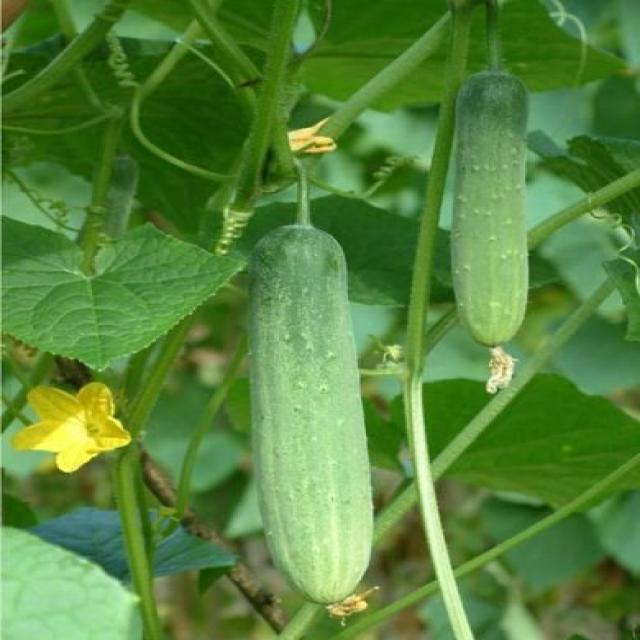cucumber: (245, 223, 371, 600), (449, 67, 530, 345)
